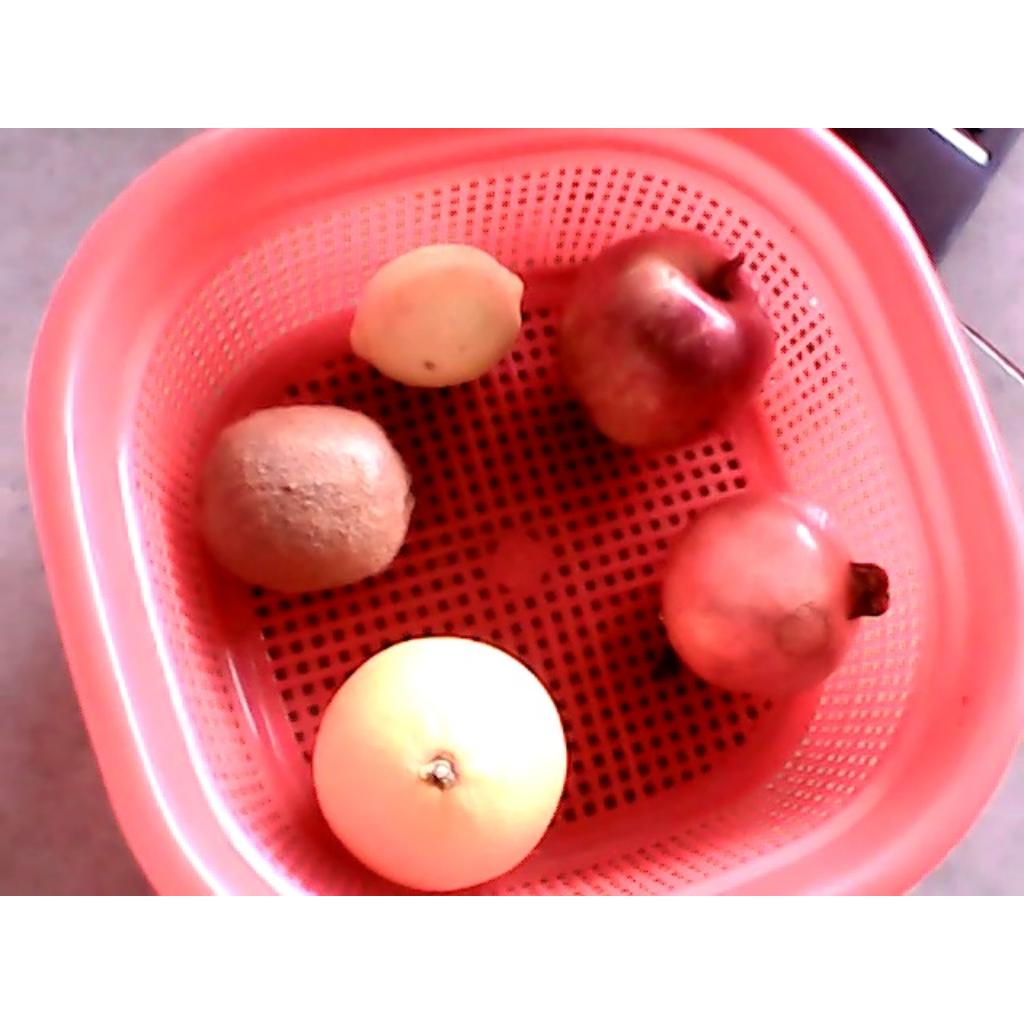apple: (558, 227, 778, 450)
kiwi: (194, 404, 416, 594)
lemon: (349, 244, 526, 387)
orange: (312, 637, 566, 894)
pomegranate: (658, 490, 892, 699)
